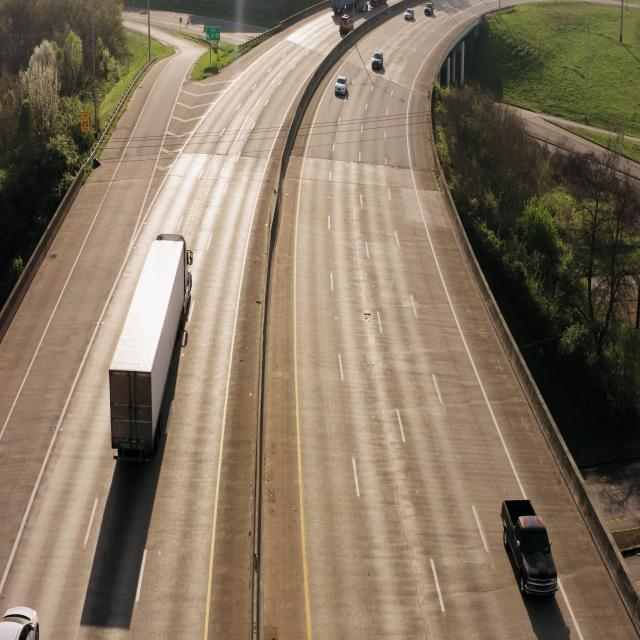Car: (109, 228, 191, 455), (500, 497, 559, 603), (333, 71, 349, 102), (372, 50, 384, 74)
